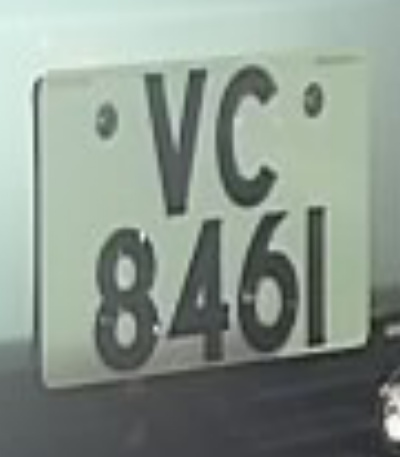1: (299, 199, 335, 368)
4: (166, 210, 249, 379)
6: (232, 204, 304, 363)
8: (80, 217, 174, 392)
C: (206, 39, 297, 225)
V: (130, 39, 215, 234)
